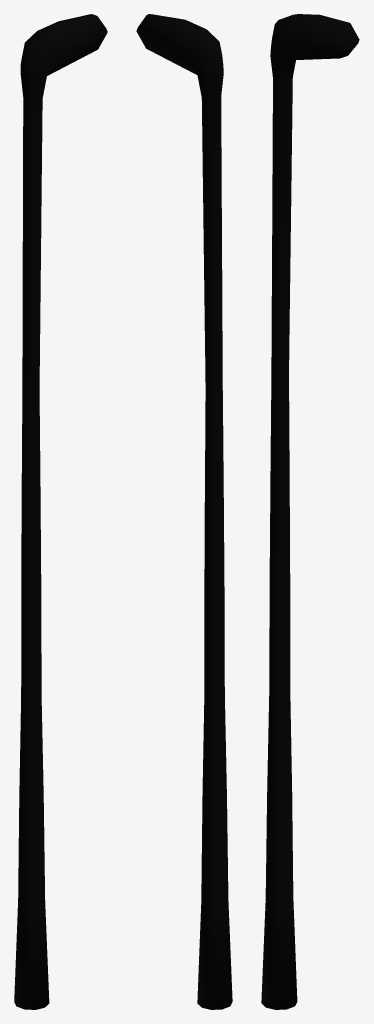
Rendered from Mesh_Club_Golf.DAE.
3 views of the same model, side by side, from view 1: azimuth 30°, elevation 25°; view 2: azimuth 150°, elevation 25°; view 3: azimuth 330°, elevation 25° (orthographic). The views are drawn at different scales.
Parts seen in each view (by area): view 1: club; view 2: club; view 3: club.
Boxes of the visible parts, left/top/right/bottom form: club: left=14, top=14, right=107, bottom=1009; club: left=136, top=14, right=232, bottom=1009; club: left=261, top=14, right=359, bottom=1009.
Bounding box in the file's own units: 1.11 × 0.3554 × 11.38.
